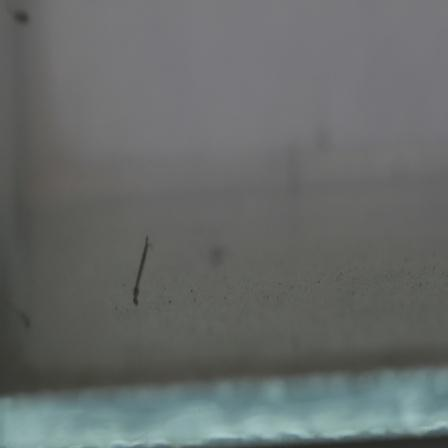Jentik-Nyamuk: (127, 233, 156, 307)
